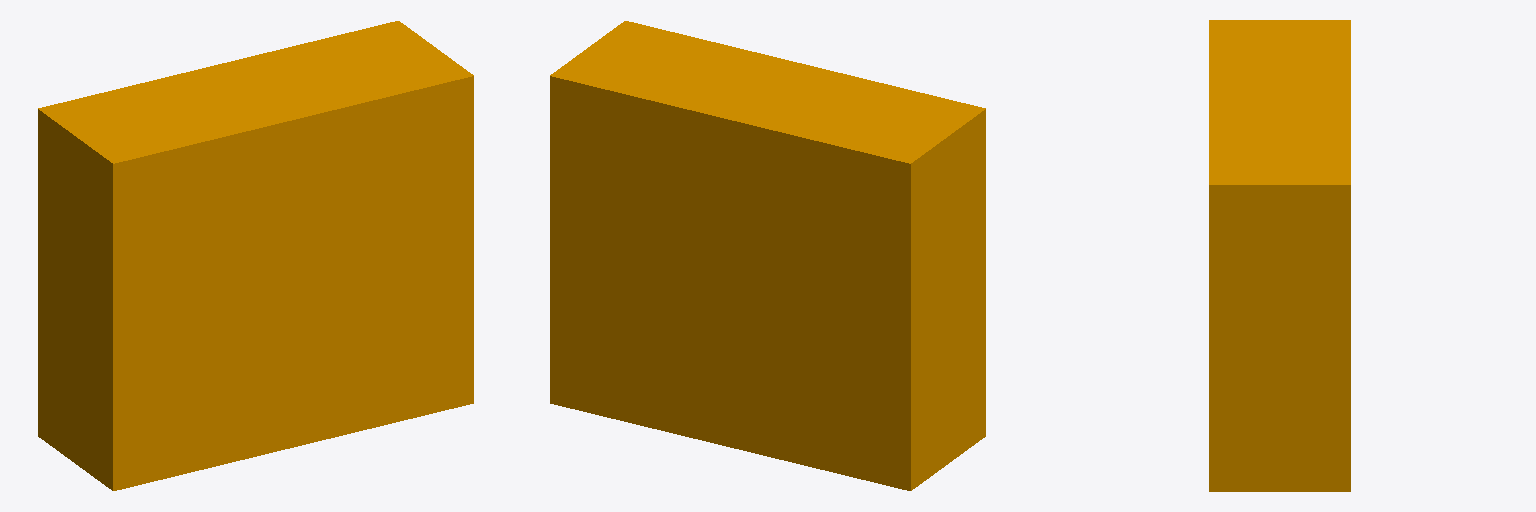
robot.urdf — animal:
<?xml version="1.0"?>
<robot name="animal">
    <link name="animal_base_link">
        <contact>
            <lateral_friction value="1.0"/>
            <spinning_friction value="0.01"/>
            <rolling_friction value="0.01"/>
            <contact_cfm value="0.0"/>
            <contact_erp value="1.0"/>
        </contact>
        <inertial>
            <origin rpy="0 0 0" xyz="0 0 0"/>
            <mass value="0.09"/>
            <inertia ixx="1" ixy="0" ixz="0" iyy="1" iyz="0" izz="1"/>
        </inertial>
        <visual>
            <origin rpy="0 0 0" xyz="0 0 0"/>
            <geometry>
                <mesh filename="cuboid/visual/animal.obj" scale="0.01 0.01 0.01"/>
            </geometry>
        </visual>
        <collision>
            <origin rpy="0 0 0" xyz="0 0 0"/>
            <geometry>
                <mesh filename="cuboid/collision/animal.stl" scale="0.01 0.01 0.01"/>
            </geometry>
        </collision>
    </link>
</robot>

--- What the picture shows (computed from the rendered views, not written in the file) ---
3 views of the same robot in one strip: view 1: azimuth 30°, elevation 25°; view 2: azimuth 150°, elevation 25°; view 3: azimuth 270°, elevation 25° (orthographic).
Robot: animal — 1 links, 0 joints (none); root link animal_base_link; default pose: every joint at zero.
Visible links, largest first — view 1: animal_base_link; view 2: animal_base_link; view 3: animal_base_link.
Link boxes in pixels (x1,y1,x2,y2): animal_base_link: (38, 21, 473, 490); animal_base_link: (550, 21, 985, 490); animal_base_link: (1209, 20, 1350, 491).
Bounding box of the posed robot: 0.135 × 0.049 × 0.117 m (x, y, z).
1 mesh visuals loaded from 1 distinct referenced files (1 OBJ).